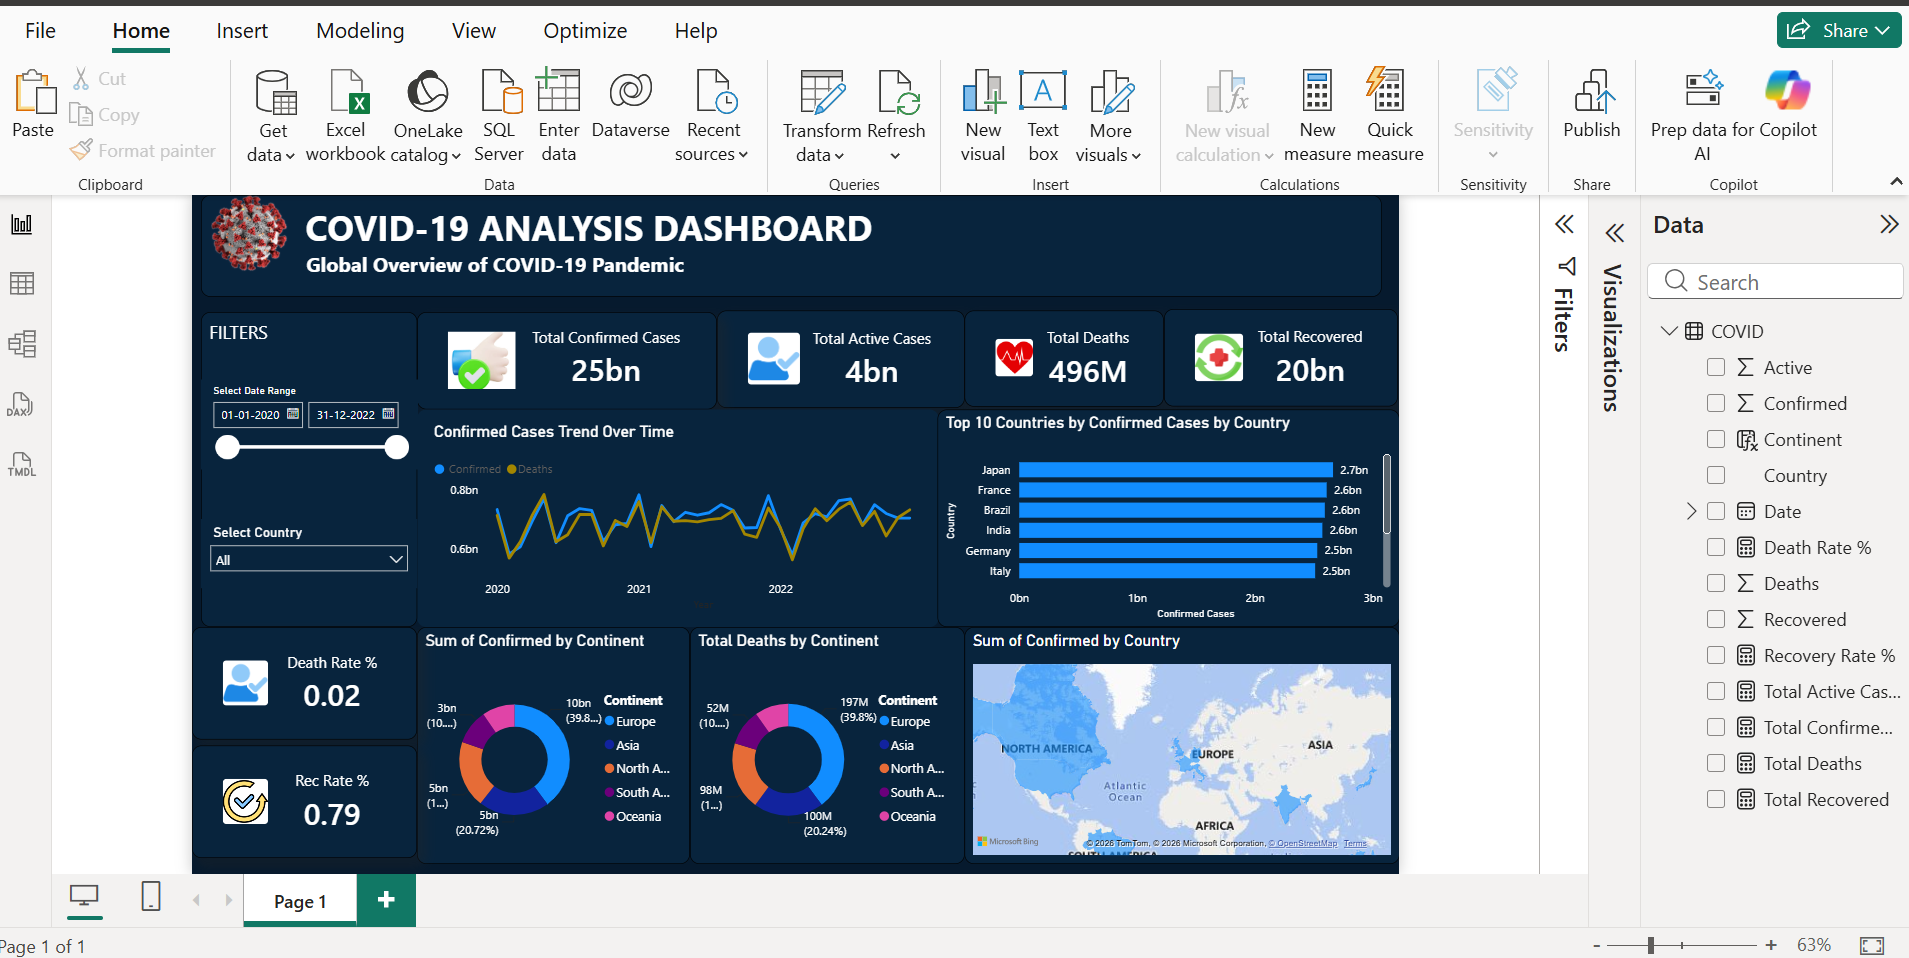

The dashboard page shown, as its layout file describes it:
{"tool":"powerbi","page":{"name":"Page 1","canvas":[1280,720],"ordinal":0},"visuals":[{"type":"textbox","box":[9.5,0,1251.8,108.2],"z":0},{"type":"image","box":[9.7,0,102,81],"z":1000},{"type":"cardVisual","fields":{"Data":["Sheet1.Total Active Cases"]},"box":[556.7,122.5,262.5,103.4],"z":2000},{"type":"cardVisual","fields":{"Data":["Sheet1.Total Deaths"]},"box":[819.2,122.5,211.6,101.8],"z":3000},{"type":"cardVisual","fields":{"Data":["Sheet1.Total Recovered"]},"box":[1030.7,120.9,248.1,103.4],"z":4000},{"type":"cardVisual","fields":{"Data":["Sheet1.Total Confirmed Cases"]},"box":[238.6,124.1,318.1,103.4],"z":5000},{"type":"lineChart","title":"Confirmed Cases Trend Over Time","fields":{"Y":["Sum(Sheet1.Confirmed)"],"Y2":["Sum(Sheet1.Deaths)"],"Category":["Sheet1.Date.Variation.Date Hierarchy.Year","Sheet1.Date.Variation.Date Hierarchy.Month"]},"box":[238.6,227.5,553.5,230.6],"z":6000},{"type":"clusteredBarChart","fields":{"Category":["Sheet1.Country"],"Y":["Sheet1.Total Confirmed Cases"]},"box":[790.5,227.5,489.9,230.6],"z":7000},{"type":"filledMap","fields":{"Category":["Sheet1.Country"]},"box":[819.2,458.1,461.3,251.3],"z":8000},{"type":"donutChart","fields":{"Y":["Sum(COVID.Confirmed)"],"Category":["COVID.Continent"]},"box":[238.6,458.1,289.5,251.3],"z":9000},{"type":"donutChart","fields":{"Category":["COVID.Continent"],"Y":["COVID.Total Deaths"]},"box":[528.1,458.1,291.1,251.3],"z":10000},{"type":"textbox","box":[9.5,124.1,229,334],"z":10500},{"type":"slicer","fields":{"Values":["COVID.Country"]},"box":[9.5,343.6,229,73.2],"z":11000},{"type":"slicer","fields":{"Values":["COVID.Date"]},"box":[9.5,195.6,229,95.4],"z":13000},{"type":"cardVisual","fields":{"Data":["COVID.Death Rate %"]},"box":[0,458.1,238.6,119.3],"z":13001},{"type":"cardVisual","fields":{"Data":["COVID.Recovery Rate %"]},"box":[0,583.8,238.6,119.3],"z":13002}]}

Visuals, with their boxes on the page's 1280x720 design canvas (x1, y1, x2, y2). These are canvas units, not pixel positions in the 1909x958 screenshot, which may show the page scaled, cropped or inside an application window:
textbox: x1=10 y1=0 x2=1261 y2=108
image: x1=10 y1=0 x2=112 y2=81
cardVisual - Sheet1.Total Active Cases: x1=557 y1=122 x2=819 y2=226
cardVisual - Sheet1.Total Deaths: x1=819 y1=122 x2=1031 y2=224
cardVisual - Sheet1.Total Recovered: x1=1031 y1=121 x2=1279 y2=224
cardVisual - Sheet1.Total Confirmed Cases: x1=239 y1=124 x2=557 y2=228
"Confirmed Cases Trend Over Time" lineChart: x1=239 y1=228 x2=792 y2=458
clusteredBarChart - Sheet1.Country x Sheet1.Total Confirmed Cases: x1=790 y1=228 x2=1280 y2=458
filledMap - Sheet1.Country: x1=819 y1=458 x2=1280 y2=709
donutChart - Sum(COVID.Confirmed) x COVID.Continent: x1=239 y1=458 x2=528 y2=709
donutChart - COVID.Continent x COVID.Total Deaths: x1=528 y1=458 x2=819 y2=709
textbox: x1=10 y1=124 x2=238 y2=458
slicer - COVID.Country: x1=10 y1=344 x2=238 y2=417
slicer - COVID.Date: x1=10 y1=196 x2=238 y2=291
cardVisual - COVID.Death Rate %: x1=0 y1=458 x2=239 y2=577
cardVisual - COVID.Recovery Rate %: x1=0 y1=584 x2=239 y2=703
